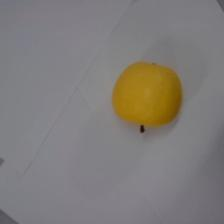yellow: (109, 56, 185, 134)
